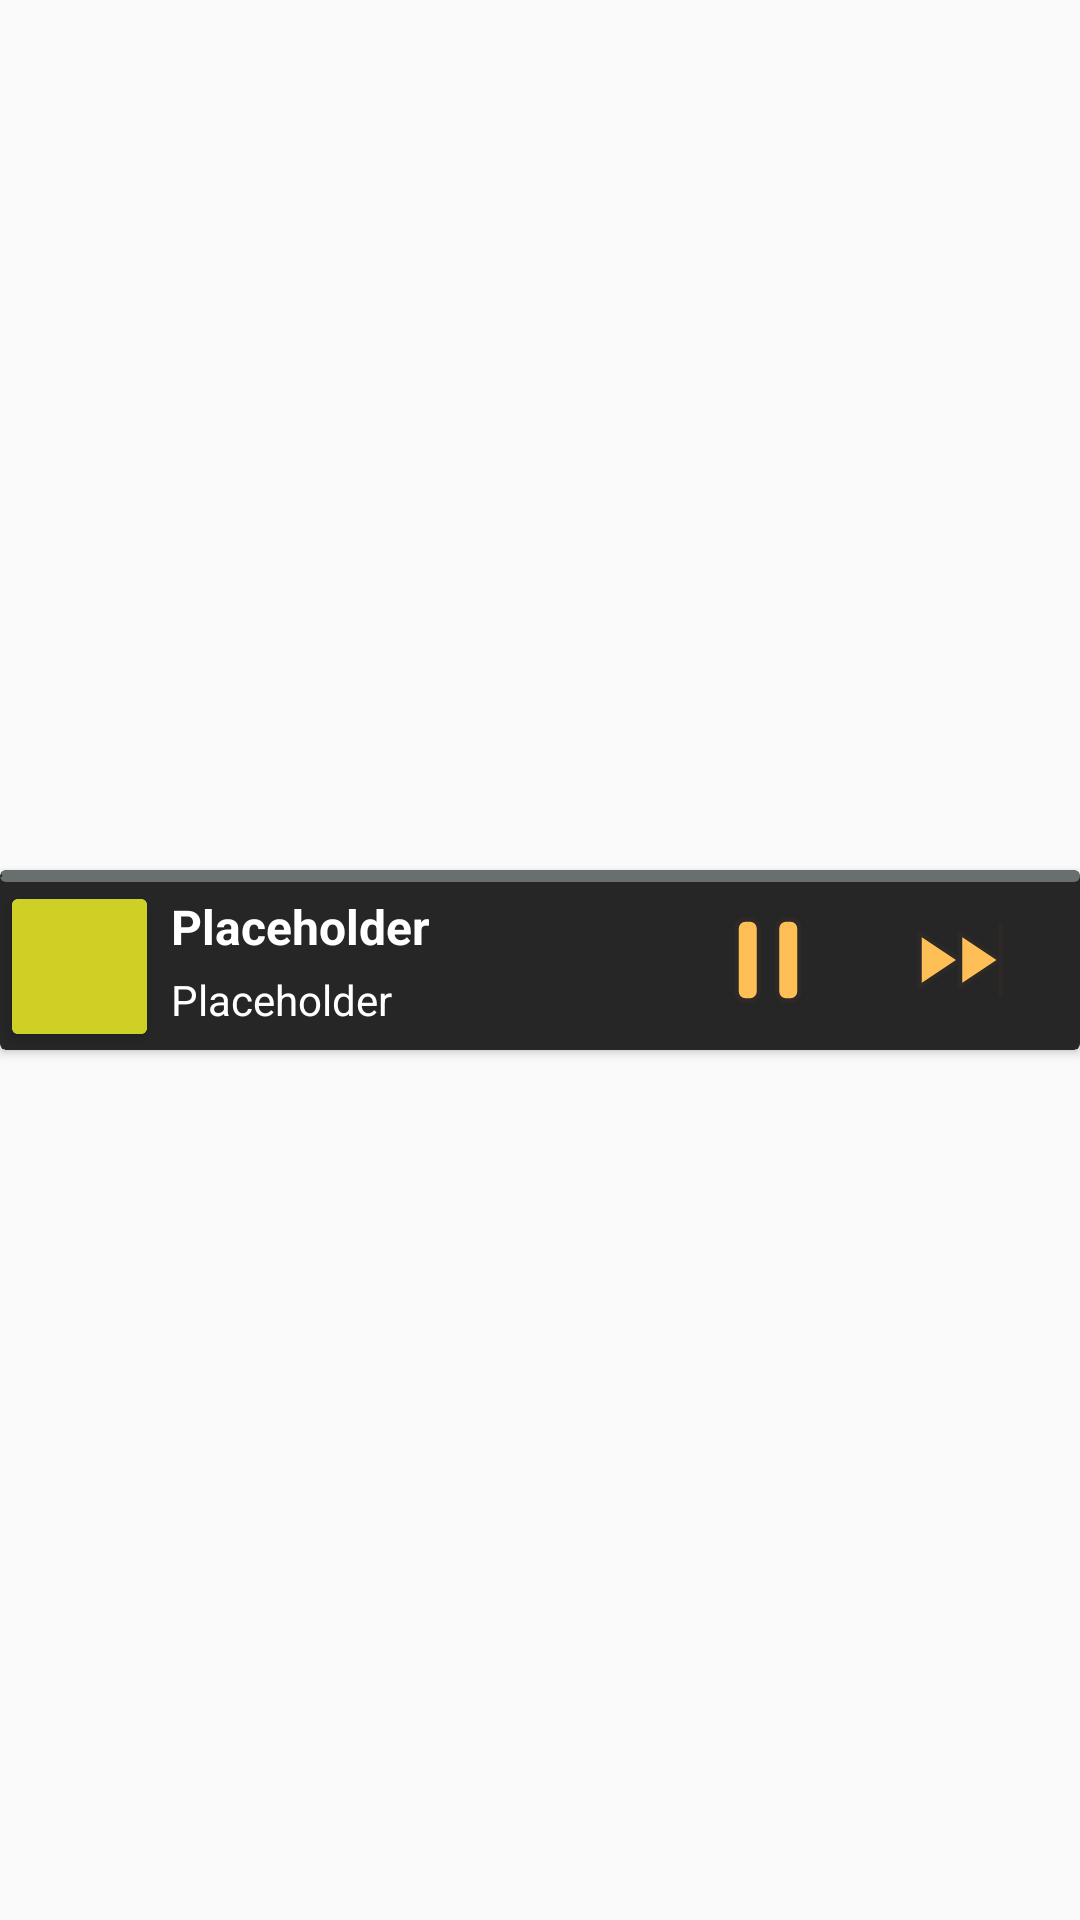

Screen size 1080 × 1920. Icon name, then its center in pixels as (x,y):
muel forward wrap: (958,960)
muel pause wrap: (768,960)
